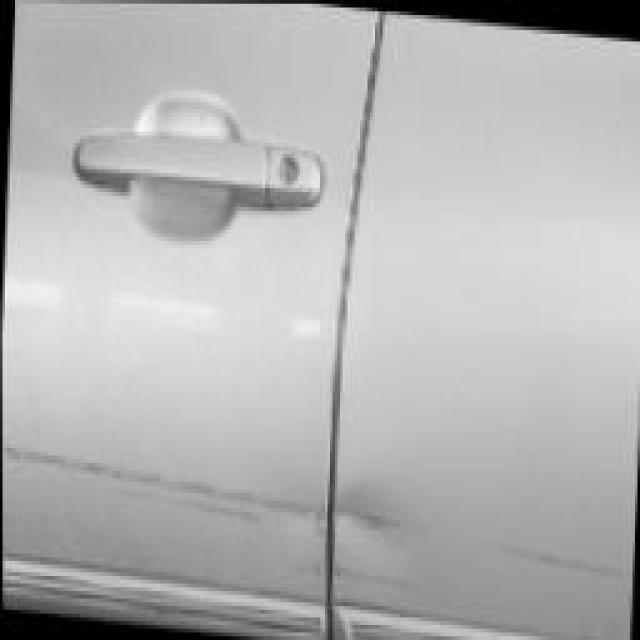Bumper: (2, 328, 636, 640)
